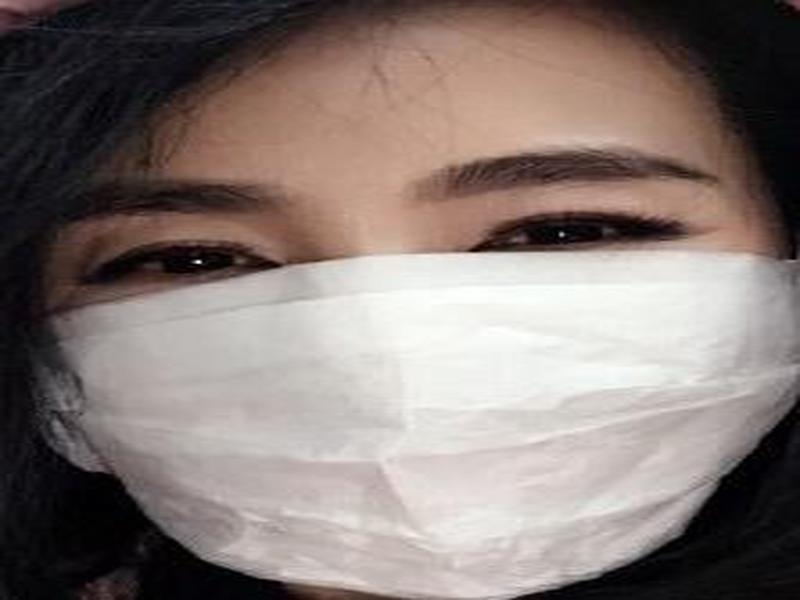with_mask: (14, 3, 797, 600)
